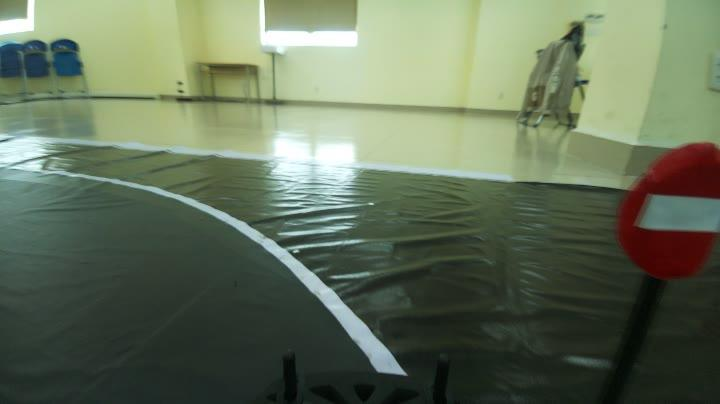no_entry: (622, 140, 716, 275)
